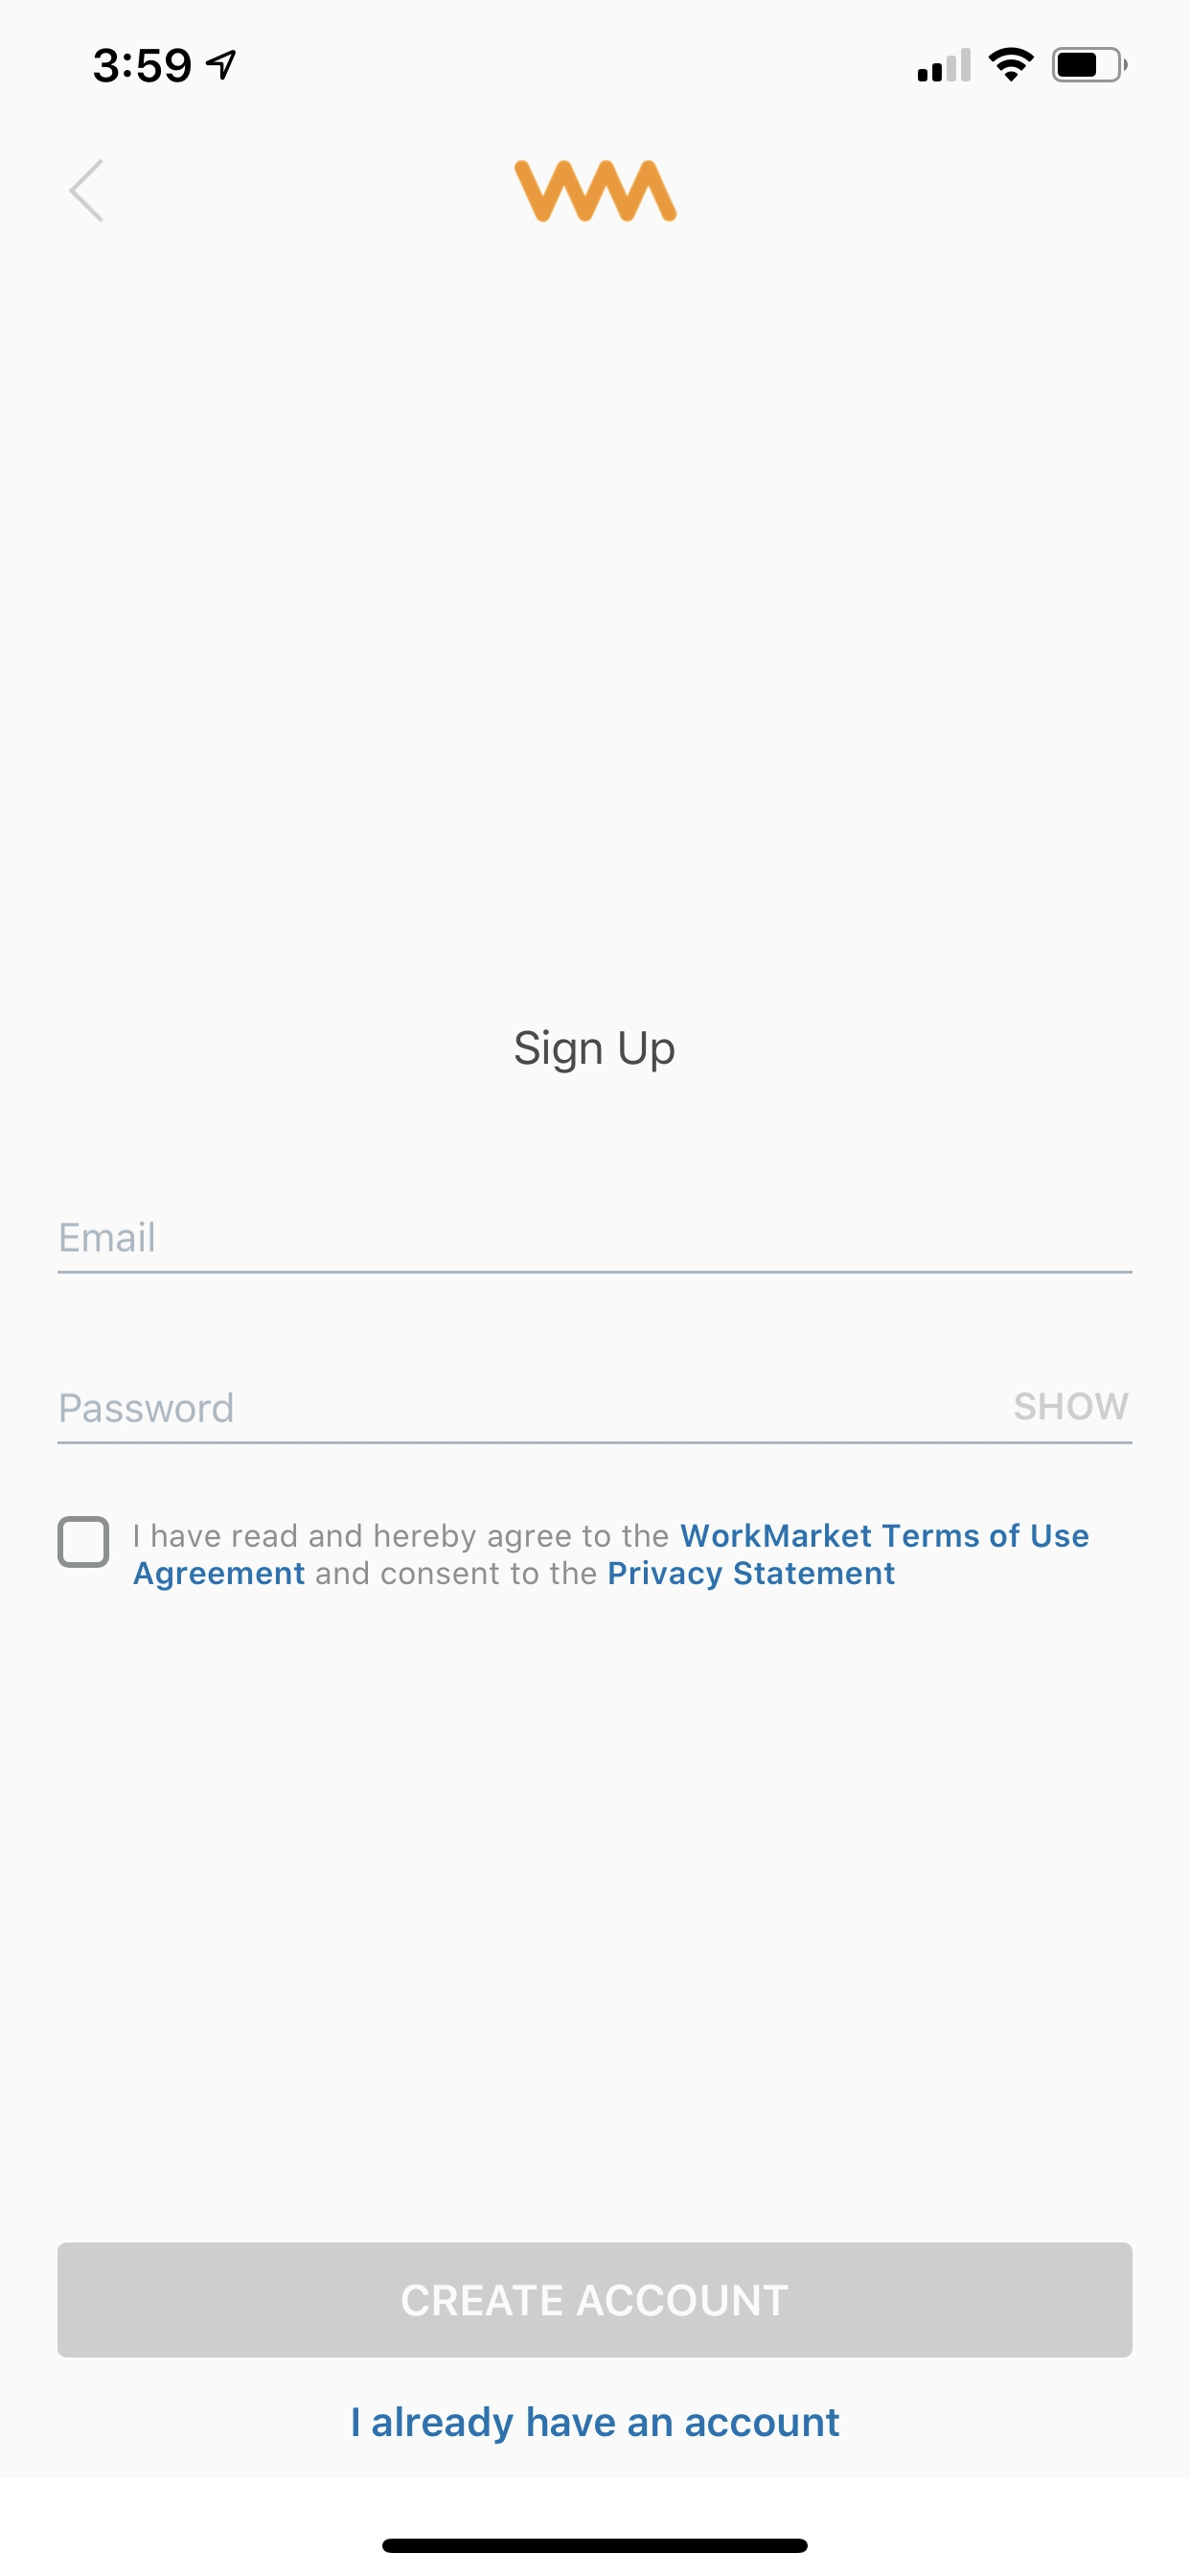CheckedTextView: (56, 1515, 1090, 1594)
EditText: (59, 1221, 1132, 1275), (59, 1393, 1132, 1446)
Icon: (69, 159, 105, 223)
Image: (516, 159, 677, 222)
Text: (135, 1523, 1088, 1590), (353, 2405, 840, 2445), (516, 1028, 676, 1073), (61, 1393, 233, 1423), (1014, 1393, 1129, 1421), (61, 1221, 155, 1253)
TextButton: (59, 2242, 1132, 2357)
UpperTaskBar: (95, 48, 1128, 84)
